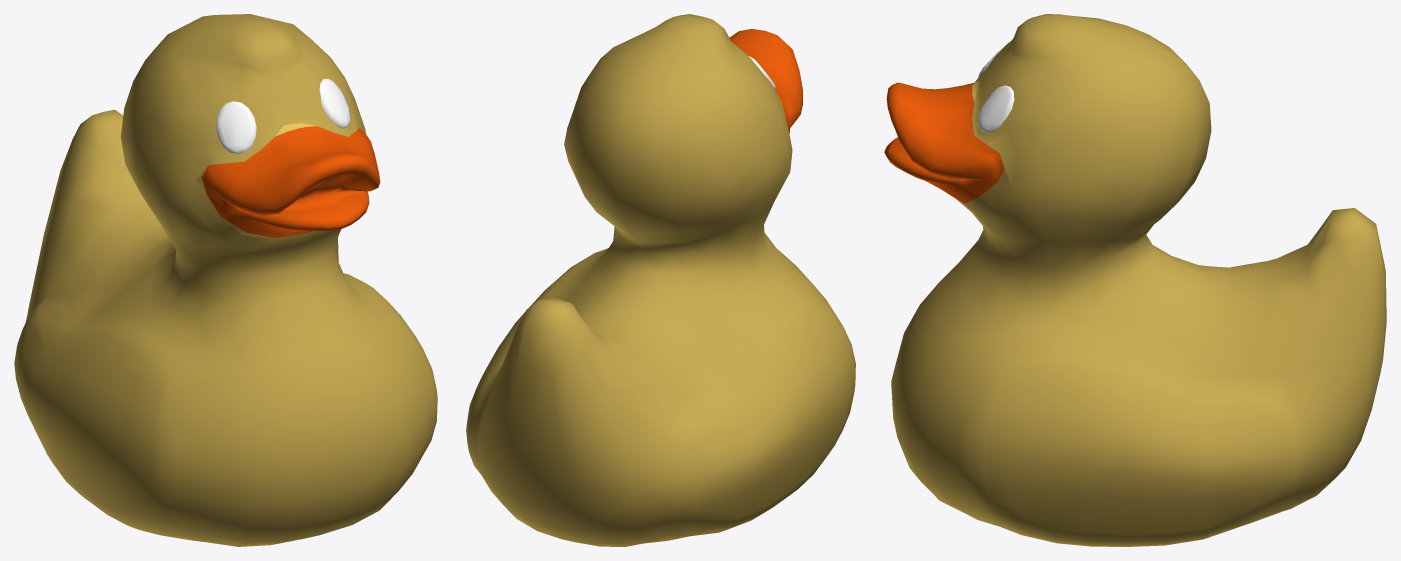
File: duck.gltf
3 views of the same model, side by side, from view 1: azimuth 30°, elevation 25°; view 2: azimuth 150°, elevation 25°; view 3: azimuth 270°, elevation 25° (orthographic). The views are drawn at different scales.
Visible parts, largest first — view 1: RubberDuck; view 2: RubberDuck; view 3: RubberDuck.
Part boxes in pixels (<box>): RubberDuck: <box>14,14,437,546</box>; RubberDuck: <box>466,14,855,546</box>; RubberDuck: <box>884,14,1386,546</box>.
Size of the model in its own units: 0.678 by 0.9733 by 0.9246.
